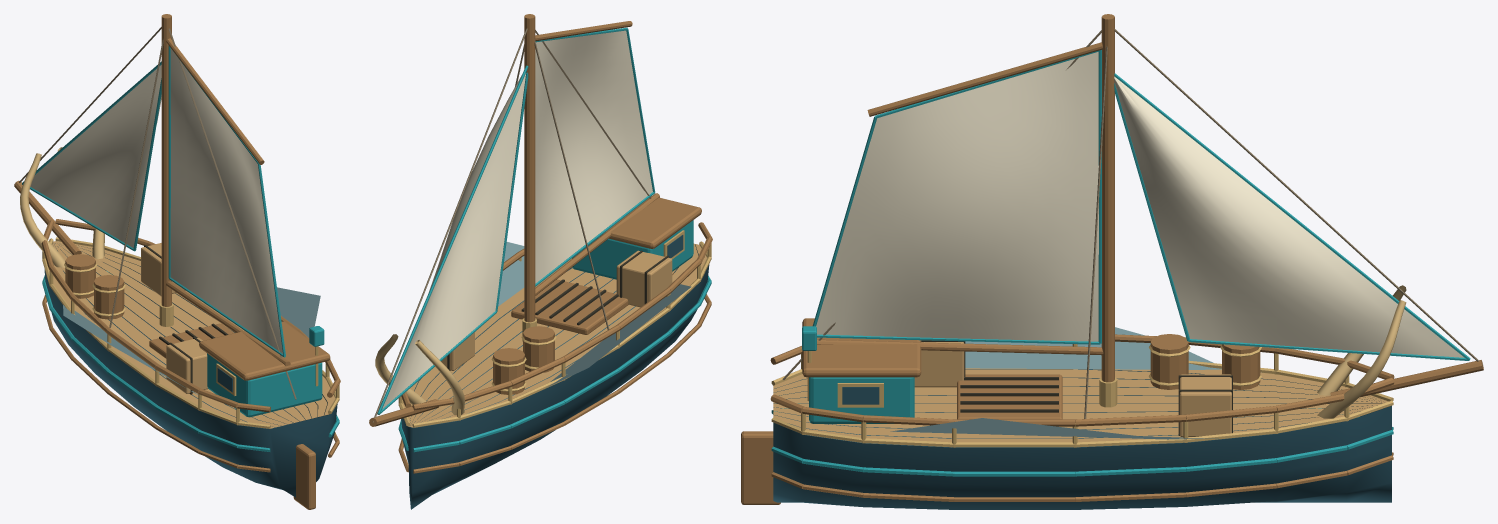
The model's file is ship_sloop.glb.
3 renders of one model, left to right at view 1: azimuth 30°, elevation 25°; view 2: azimuth 150°, elevation 25°; view 3: azimuth 270°, elevation 25°, orthographic. The views are drawn at different scales.
Visible parts, largest first — view 1: Sloop curved hull; view 2: Sloop curved hull; view 3: Sloop curved hull.
Part boxes in pixels (left/top/right/bottom): Sloop curved hull: left=14, top=14, right=340, bottom=509; Sloop curved hull: left=369, top=14, right=712, bottom=509; Sloop curved hull: left=741, top=14, right=1483, bottom=509.
Bounding box in the file's own units: 3 × 5.34 × 7.38.
